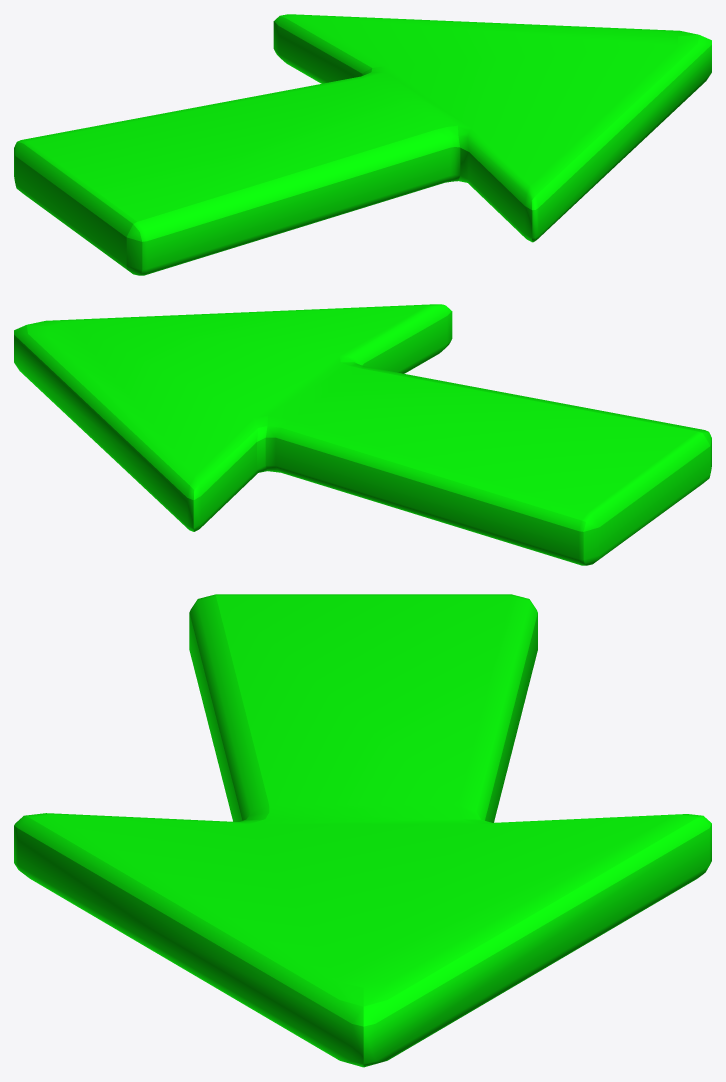
Rendered from 3D Arrow.glb.
3 views of the same model, one above another, from view 1: azimuth 30°, elevation 25°; view 2: azimuth 150°, elevation 25°; view 3: azimuth 270°, elevation 25° (orthographic). The views are drawn at different scales.
Parts seen in each view (by area): view 1: 3D Arrow; view 2: 3D Arrow; view 3: 3D Arrow.
Boxes of the visible parts, x1,y1,x2,y2 form: 3D Arrow: (14,14,711,275); 3D Arrow: (14,304,711,565); 3D Arrow: (14,594,711,1067).
Size of the model in its own units: 3.01 by 0.2343 by 2.1.
